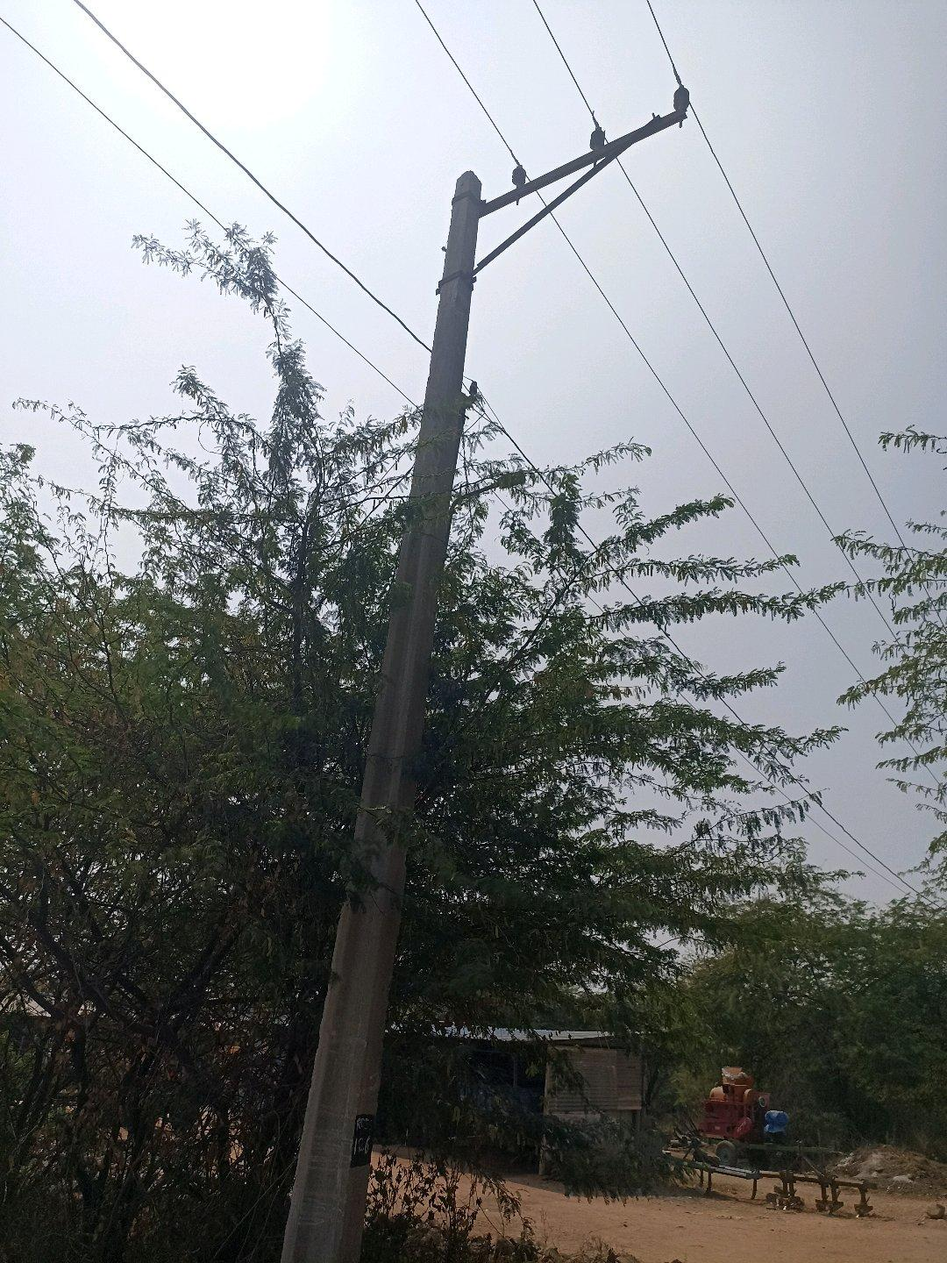{"0" "insulator", "1" "pole", "2" "crossarm", "3" "conductor", "4" "street_: (281, 87, 687, 1262), (511, 222, 531, 240), (570, 176, 590, 193), (481, 262, 486, 268), (561, 195, 566, 200)
